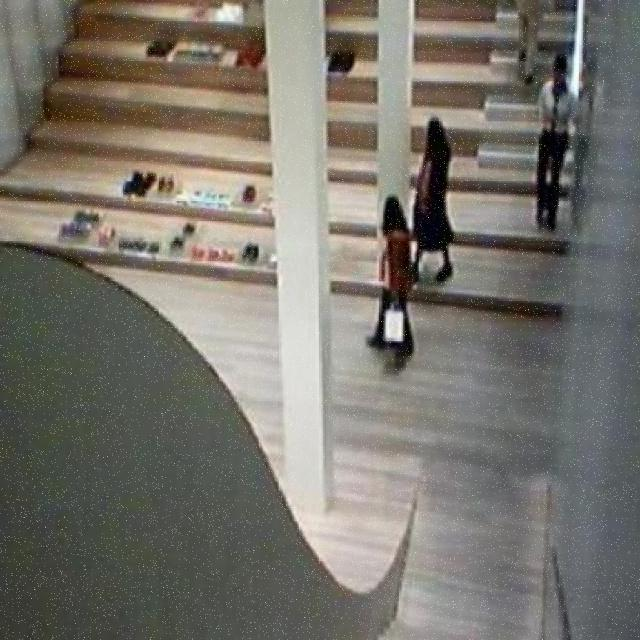stair: (2, 0, 567, 312), (474, 0, 588, 165)
